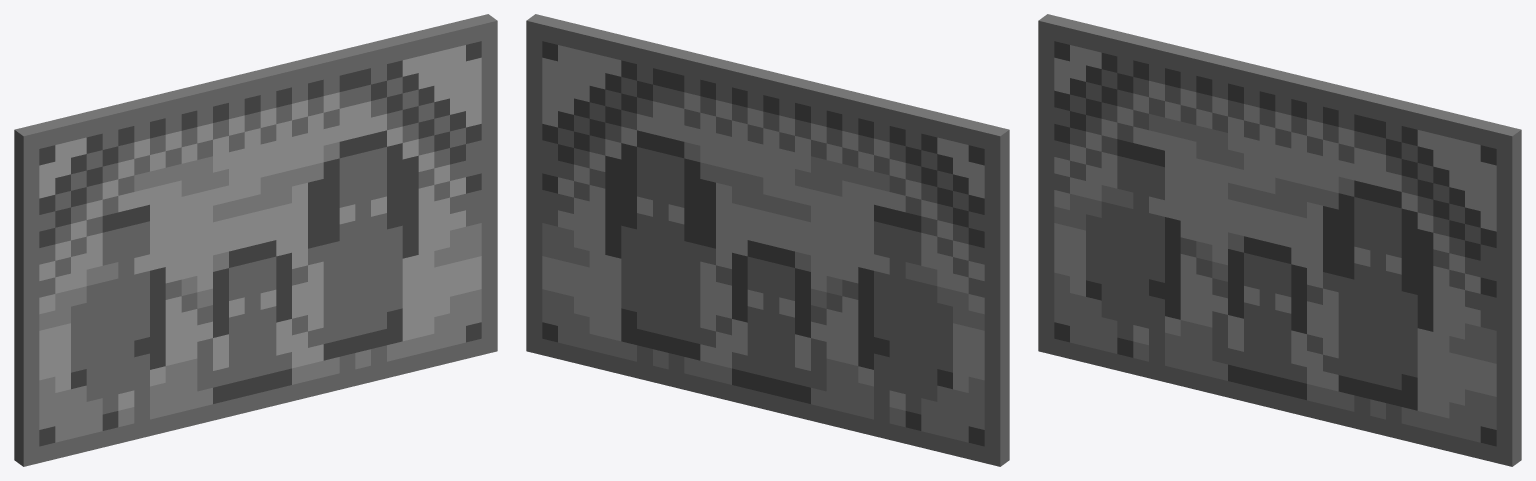
File: Picture.obj
3 renders of one model, left to right at view 1: azimuth 30°, elevation 25°; view 2: azimuth 150°, elevation 25°; view 3: azimuth 330°, elevation 25°, orthographic.
Bounding box in the file's own units: 3 × 2 × 0.1.
1 material, 1 textured.
